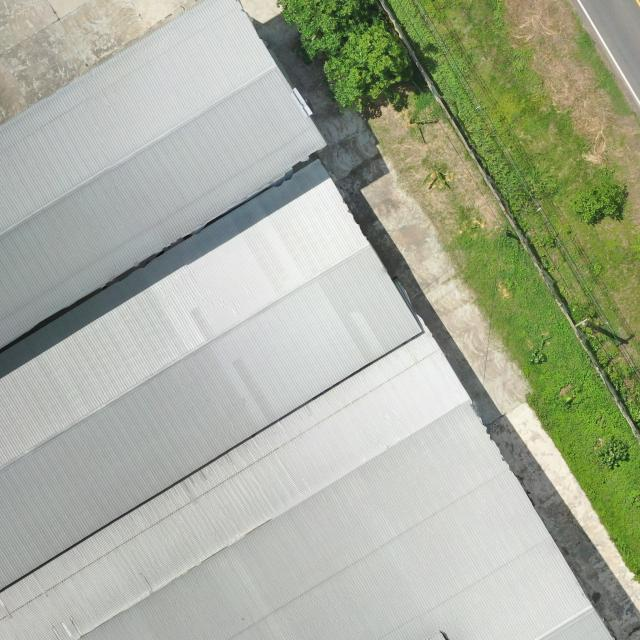Tree: (322, 21, 412, 110), (273, 0, 373, 59), (570, 181, 630, 227)
